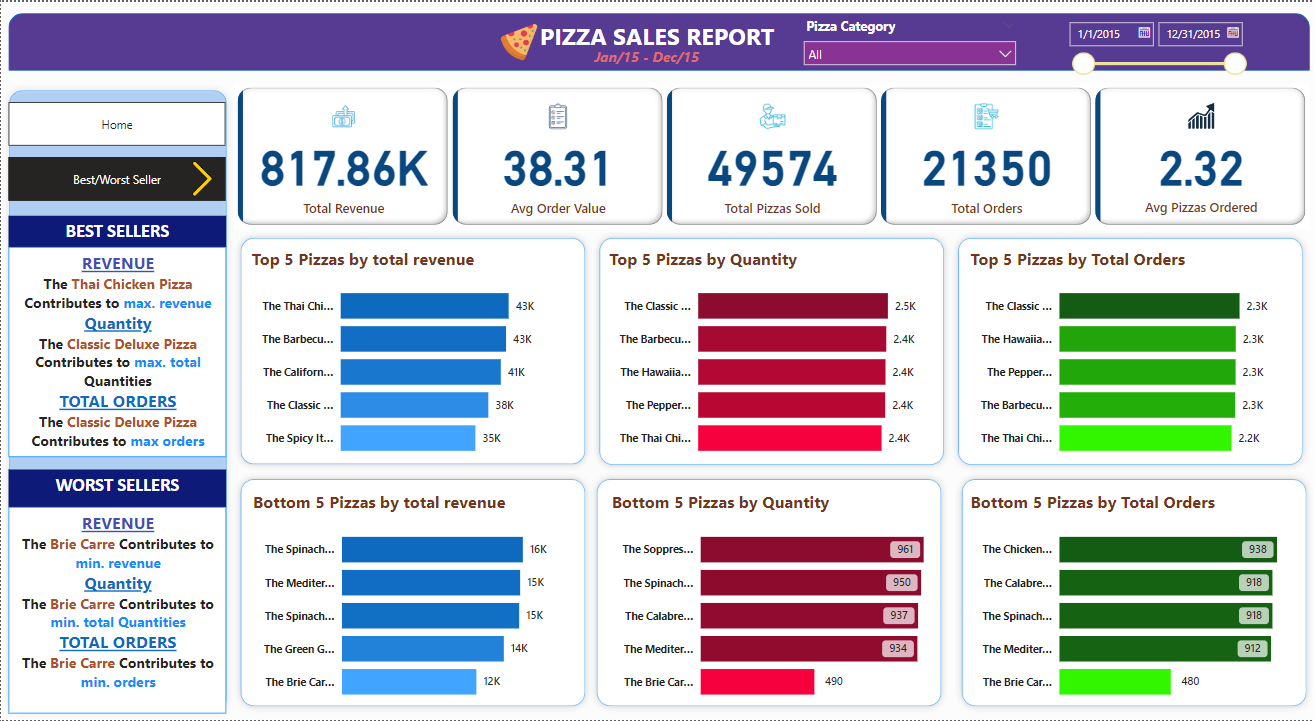

This screenshot's page, from the dashboard's own definition file:
{"tool":"powerbi","page":{"name":"Best/Worst Seller","canvas":[1500,820],"ordinal":1},"visuals":[{"type":"shape","box":[1.1,93.3,264.4,726.7],"z":0},{"type":"cardVisual","fields":{"Data":["pizza_sales.Total Revenue","pizza_sales.Avg Order Value","pizza_sales.Total Pizzas Sold","pizza_sales.Total Orders","pizza_sales.Avg Pizzas Ordered"]},"box":[265.7,92.9,1230,167.1],"z":1000},{"type":"shape","box":[8.6,12.9,1487.1,65.7],"z":2000},{"type":"textbox","box":[591.4,15.7,317.1,58.6],"z":3000},{"type":"textbox","box":[673.3,45.6,142.2,33.3],"z":4000},{"type":"image","box":[565.7,18.6,52.9,54.3],"z":5000},{"type":"shape","box":[265.7,261.4,410,275],"z":6000},{"type":"textbox","box":[8.6,244.3,248.6,35.7],"z":7000},{"type":"textbox","box":[8.6,280,248.6,240],"z":8000},{"type":"textbox","box":[8.6,534.3,248.6,42.9],"z":9000},{"type":"textbox","box":[8.6,577.1,248.6,235.7],"z":10000},{"type":"slicer","fields":{"Values":["pizza_sales.pizza_category"]},"box":[907.1,12.9,262.9,65.7],"z":11000},{"type":"slicer","fields":{"Values":["pizza_sales.order_date"]},"box":[1208.6,12.9,222.9,80],"z":12000},{"type":"shape","box":[675.7,261.4,410,275.7],"z":13000},{"type":"shape","box":[1085.7,261.4,410,275.7],"z":14000},{"type":"shape","box":[265.7,537.1,410,275.7],"z":15000},{"type":"shape","box":[672.9,537.1,410,275.7],"z":16000},{"type":"shape","box":[1090,537.1,410,275.7],"z":17000},{"type":"barChart","title":"Top 5 Pizzas by total revenue","fields":{"Category":["pizza_sales.pizza_name"],"Y":["pizza_sales.Total Revenue"]},"box":[281.4,280,377.1,254.3],"z":18000},{"type":"barChart","title":"Bottom 5 Pizzas by total revenue","fields":{"Category":["pizza_sales.pizza_name"],"Y":["pizza_sales.Total Revenue"]},"box":[282.9,558.6,377.1,254.3],"z":19000},{"type":"barChart","title":"Top 5 Pizzas by Quantity","fields":{"Category":["pizza_sales.pizza_name"],"Y":["pizza_sales.Total Pizzas Sold"]},"box":[690,280,377.1,254.3],"z":20000},{"type":"barChart","title":"Bottom 5 Pizzas by Quantity","fields":{"Category":["pizza_sales.pizza_name"],"Y":["pizza_sales.Total Pizzas Sold"]},"box":[692.9,558.6,377.1,254.3],"z":21000},{"type":"barChart","title":"Top 5 Pizzas by Total Orders","fields":{"Category":["pizza_sales.pizza_name"],"Y":["pizza_sales.Total Orders"]},"box":[1102.9,280,377.1,254.3],"z":22000},{"type":"barChart","title":"Bottom 5 Pizzas by Total Orders","fields":{"Category":["pizza_sales.pizza_name"],"Y":["pizza_sales.Total Orders"]},"box":[1102.9,558.6,377.1,254.3],"z":23000},{"type":"pageNavigator","box":[8.6,114.3,248.6,50],"z":24000},{"type":"pageNavigator","box":[8.6,177.1,248.6,50],"z":25000},{"type":"image","box":[202.9,177.1,54.3,50],"z":26000}]}

Visuals, with their boxes in screenshot pixels (x1, y1, x2, y2), scaled from the page's 1500x820 canvas onto the 1314x721 screenshot:
shape: 1, 82, 233, 720
cardVisual - pizza_sales.Total Revenue x pizza_sales.Avg Order Value: 233, 82, 1310, 229
shape: 8, 11, 1310, 69
textbox: 518, 14, 796, 65
textbox: 590, 40, 714, 69
image: 496, 16, 542, 64
shape: 233, 230, 592, 472
textbox: 8, 215, 225, 246
textbox: 8, 246, 225, 457
textbox: 8, 470, 225, 508
textbox: 8, 507, 225, 715
slicer - pizza_sales.pizza_category: 795, 11, 1025, 69
slicer - pizza_sales.order_date: 1059, 11, 1254, 82
shape: 592, 230, 951, 472
shape: 951, 230, 1310, 472
shape: 233, 472, 592, 715
shape: 589, 472, 949, 715
shape: 955, 472, 1313, 715
"Top 5 Pizzas by total revenue" barChart: 247, 246, 577, 470
"Bottom 5 Pizzas by total revenue" barChart: 248, 491, 578, 715
"Top 5 Pizzas by Quantity" barChart: 604, 246, 935, 470
"Bottom 5 Pizzas by Quantity" barChart: 607, 491, 937, 715
"Top 5 Pizzas by Total Orders" barChart: 966, 246, 1296, 470
"Bottom 5 Pizzas by Total Orders" barChart: 966, 491, 1296, 715
pageNavigator: 8, 101, 225, 144
pageNavigator: 8, 156, 225, 200
image: 178, 156, 225, 200
